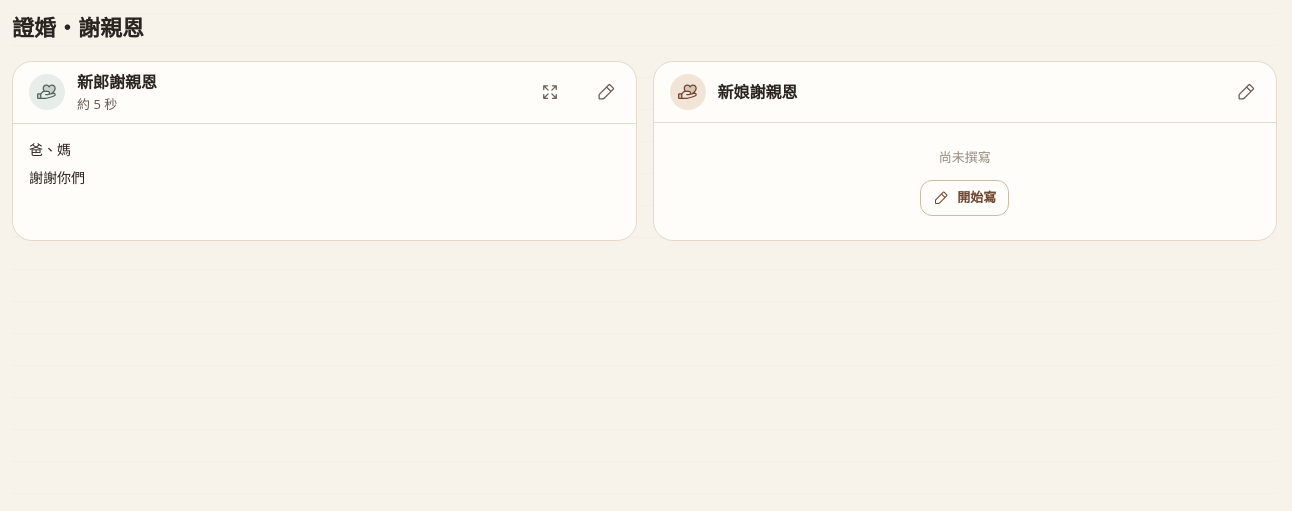
Test case: WeddingSpeechCards › fills the starter draft into an empty editor and flags placeholders
Step 1. Click the button "開始寫" → click(965, 198), box [920, 180, 1009, 216]
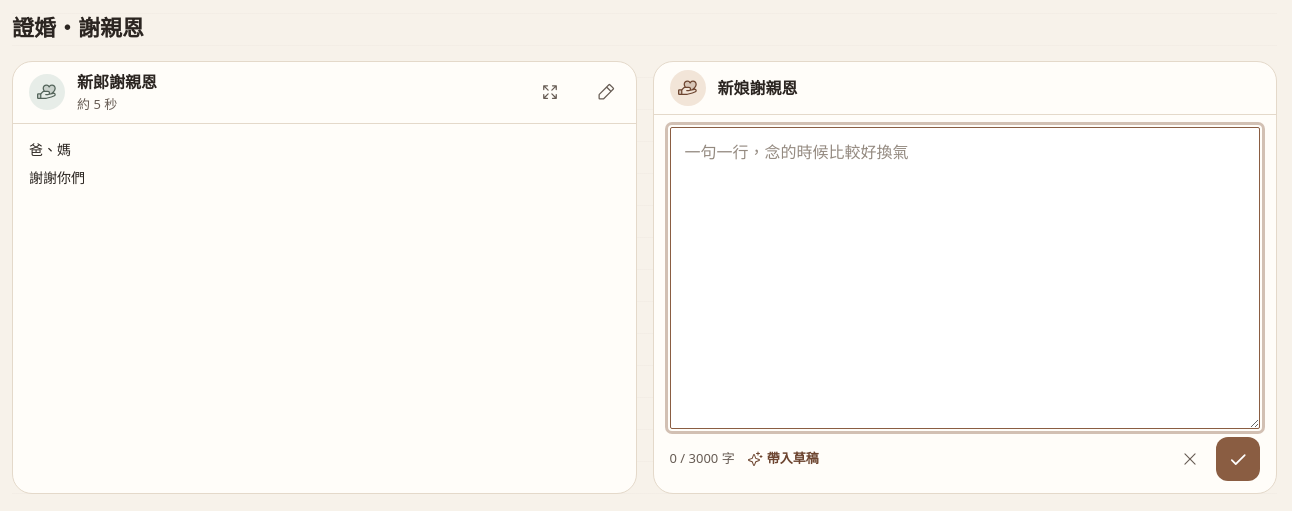
Check: the text box named "新娘謝親恩內容" is empty, box [670, 127, 1260, 429]
Step 2. Click the button "帶入草稿" → click(783, 459), box [747, 441, 819, 477]
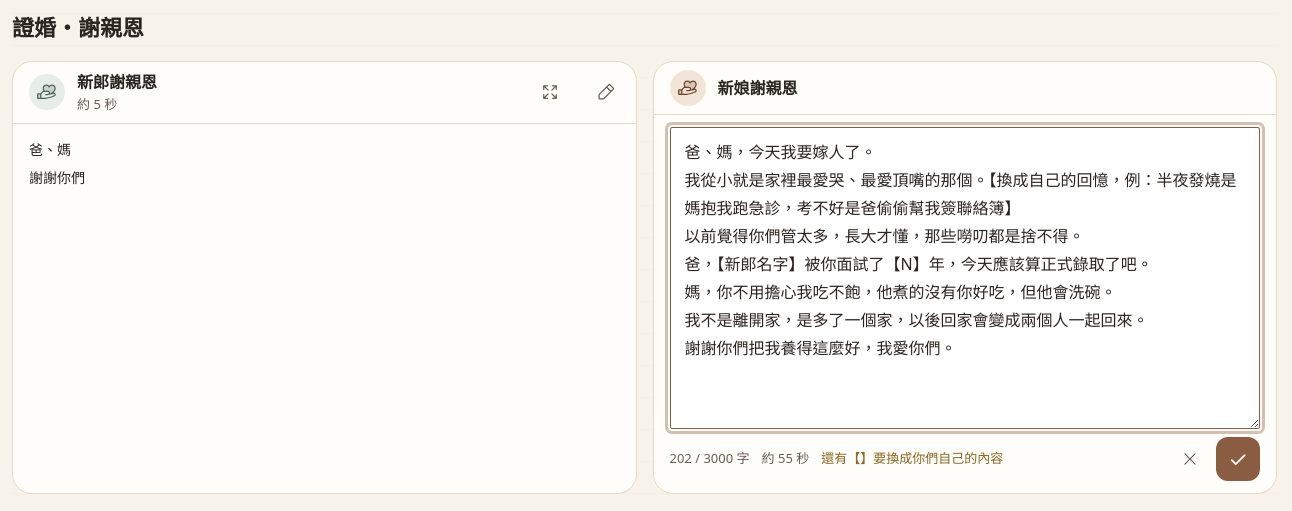
Check: the form named "expectedVersion" is empty, box [654, 115, 1276, 493]
Check: the text "還有【】要換成你們自己的內容" is shown, box [821, 448, 1003, 469]
